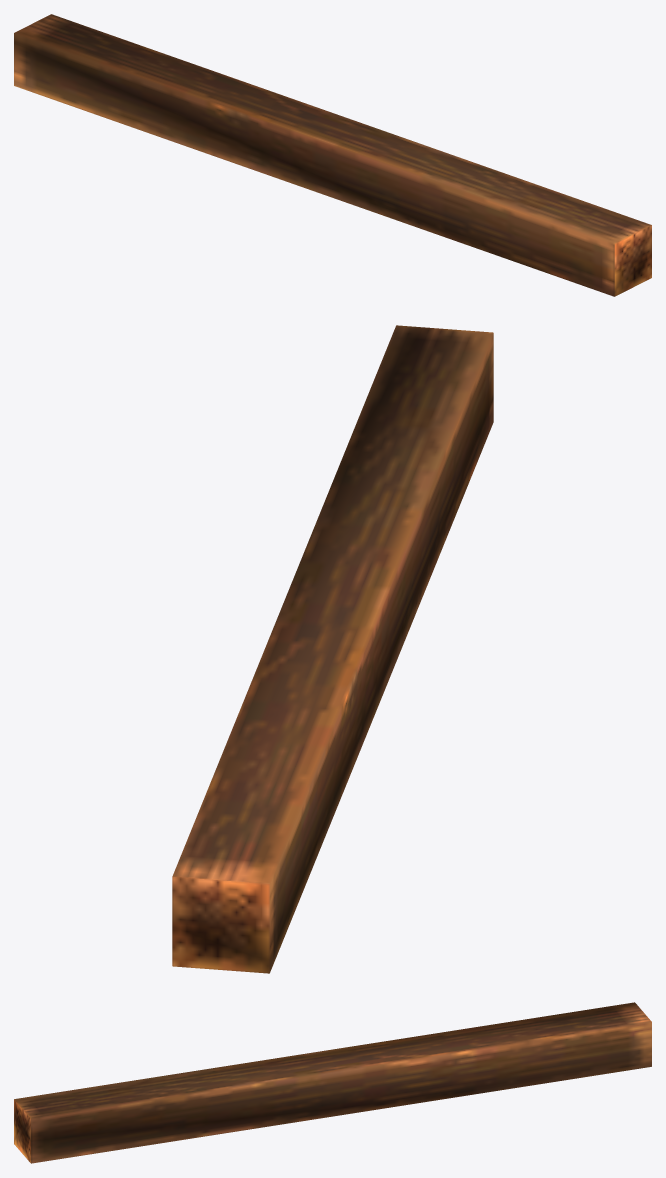
Rendered from SWORDLIGHT20_JAILBRACE45.fbx.
3 renders of one model, top to bottom at view 1: azimuth 30°, elevation 25°; view 2: azimuth 150°, elevation 25°; view 3: azimuth 270°, elevation 25°, orthographic. The views are drawn at different scales.
Parts seen in each view (by area): view 1: SWORDLIGHT20_JAILBRACE45; view 2: SWORDLIGHT20_JAILBRACE45; view 3: SWORDLIGHT20_JAILBRACE45.
Boxes of the visible parts, box(x1,y1,x2,y2) form: SWORDLIGHT20_JAILBRACE45: box(14, 14, 651, 296); SWORDLIGHT20_JAILBRACE45: box(172, 325, 493, 973); SWORDLIGHT20_JAILBRACE45: box(14, 1002, 651, 1163).
Bounding box in the file's own units: 22298 × 4000 × 51602.
Materials: 1 (1 with a texture image).
